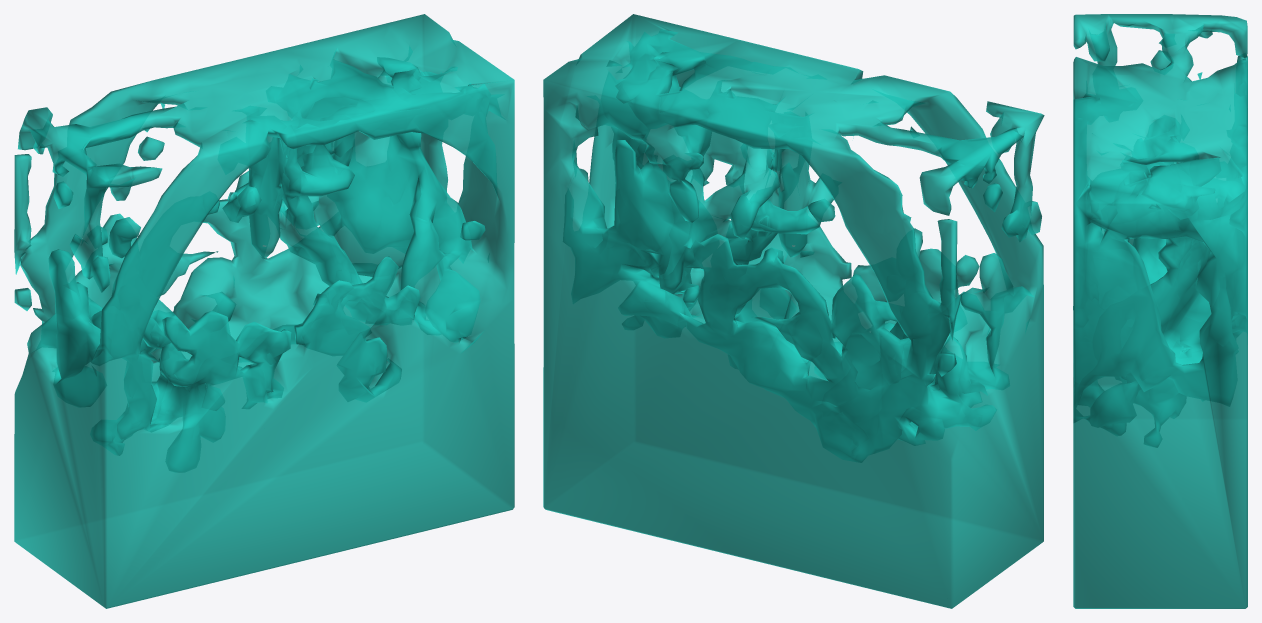
3 renders of one model, left to right at view 1: azimuth 30°, elevation 25°; view 2: azimuth 150°, elevation 25°; view 3: azimuth 270°, elevation 25°, orthographic. The views are drawn at different scales.
Visible parts, largest first — view 1: Liquid_Domain; view 2: Liquid_Domain; view 3: Liquid_Domain.
Part boxes in pixels (left/top/right/bottom): Liquid_Domain: left=14, top=14, right=514, bottom=608; Liquid_Domain: left=543, top=14, right=1044, bottom=608; Liquid_Domain: left=1073, top=14, right=1247, bottom=608.
Bounding box in the file's own units: 884 × 884 × 345.
